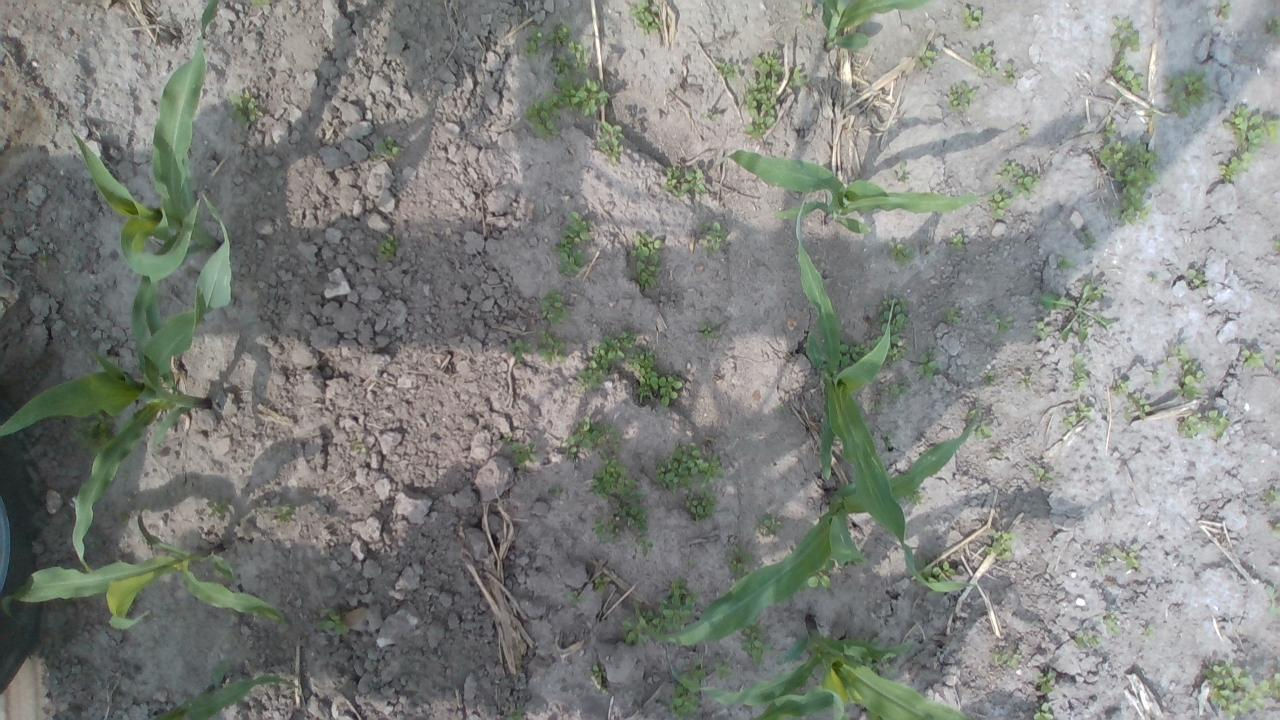Maize: (650, 419, 979, 646), (0, 229, 213, 576), (795, 192, 976, 596), (70, 0, 232, 376), (0, 507, 282, 630), (665, 614, 978, 720), (718, 148, 1000, 239), (139, 665, 299, 720), (816, 0, 930, 52)
Weeds: (578, 330, 682, 409), (623, 575, 704, 646), (524, 78, 610, 144), (1097, 138, 1161, 225), (589, 456, 648, 544), (1040, 279, 1114, 345), (1205, 659, 1280, 720), (742, 47, 784, 141), (656, 440, 726, 492), (548, 209, 594, 280), (989, 159, 1041, 219), (1222, 102, 1280, 153), (563, 416, 622, 458), (545, 24, 590, 77), (1164, 68, 1210, 119), (628, 230, 666, 290), (737, 615, 780, 667), (671, 666, 707, 720), (70, 412, 114, 456), (660, 164, 710, 200), (1183, 409, 1231, 440), (595, 120, 626, 168), (1110, 58, 1146, 99), (877, 294, 914, 333), (226, 87, 262, 127), (1176, 358, 1208, 402), (682, 488, 720, 522), (536, 288, 570, 326), (536, 328, 568, 368), (1108, 15, 1142, 51), (798, 557, 832, 591), (1218, 151, 1254, 183), (981, 528, 1014, 562), (913, 558, 956, 584), (946, 81, 977, 116), (698, 220, 728, 256), (630, 5, 664, 36), (1062, 402, 1094, 433), (968, 42, 999, 74), (916, 349, 946, 382), (837, 344, 871, 372), (886, 239, 916, 270), (751, 513, 784, 540), (1124, 392, 1152, 422), (1070, 353, 1092, 390), (510, 440, 539, 467), (727, 548, 753, 578), (1111, 544, 1140, 570), (370, 137, 400, 162), (317, 612, 349, 635), (1162, 344, 1191, 369), (861, 654, 898, 673), (522, 28, 545, 58), (1263, 582, 1280, 622), (714, 60, 742, 84), (884, 334, 906, 364), (506, 338, 534, 361), (376, 234, 402, 258), (786, 62, 808, 90), (715, 656, 738, 682), (592, 663, 610, 696), (1026, 462, 1056, 481), (960, 8, 984, 30), (1002, 61, 1024, 85), (992, 652, 1024, 668), (1242, 345, 1264, 368), (950, 232, 969, 258), (1073, 632, 1099, 650), (917, 44, 935, 70), (1184, 268, 1206, 288), (903, 487, 926, 506), (990, 314, 1014, 332), (884, 384, 910, 400), (1038, 669, 1054, 694), (698, 318, 718, 338), (942, 304, 961, 325), (274, 504, 297, 520), (1034, 702, 1054, 720), (636, 538, 656, 556), (566, 589, 587, 606), (1215, 0, 1232, 20), (1262, 488, 1280, 506), (1104, 614, 1120, 634), (972, 425, 992, 440), (1032, 319, 1048, 337), (594, 575, 610, 593), (1109, 380, 1128, 395), (1058, 255, 1074, 272), (1267, 14, 1280, 34), (1150, 369, 1166, 385), (894, 158, 908, 176), (882, 431, 896, 448), (1266, 521, 1280, 538), (1104, 120, 1118, 137), (1019, 374, 1033, 390), (1082, 228, 1096, 244), (207, 505, 225, 516), (870, 335, 883, 350), (827, 38, 840, 52), (800, 4, 814, 17), (1144, 623, 1156, 638), (1096, 553, 1108, 568), (503, 711, 522, 720), (981, 368, 994, 380), (546, 486, 561, 496), (248, 0, 272, 6), (1016, 126, 1028, 137), (870, 402, 881, 413), (1147, 274, 1159, 284), (1269, 240, 1280, 250), (501, 432, 512, 442), (1274, 352, 1280, 368), (969, 410, 976, 419)
